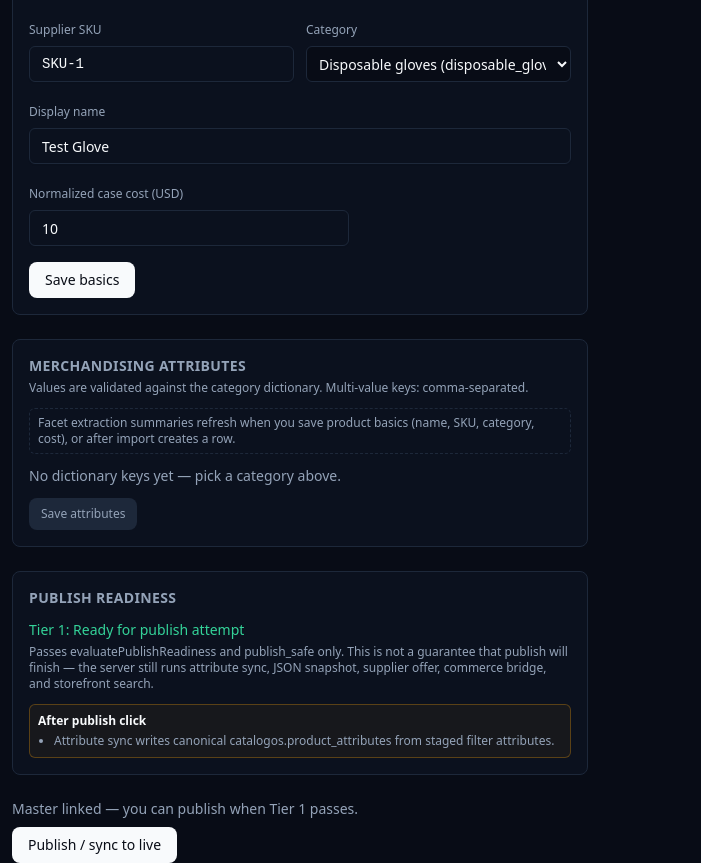
QuickAddPageClient › publish success shows Tier 2 copy and clears publish failure UI
(page scrolled)
Click the button "Publish / sync to live": {"x": 95, "y": 845} [12,827,177,862]
(page scrolled)
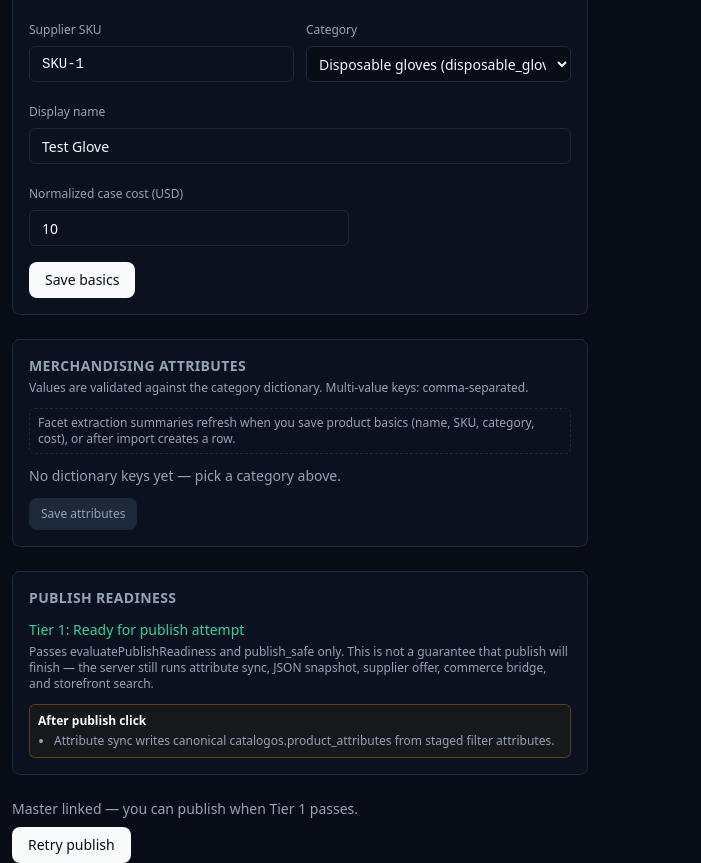
Click the button "Retry publish": {"x": 71, "y": 845} [12,827,131,862]
(page scrolled)
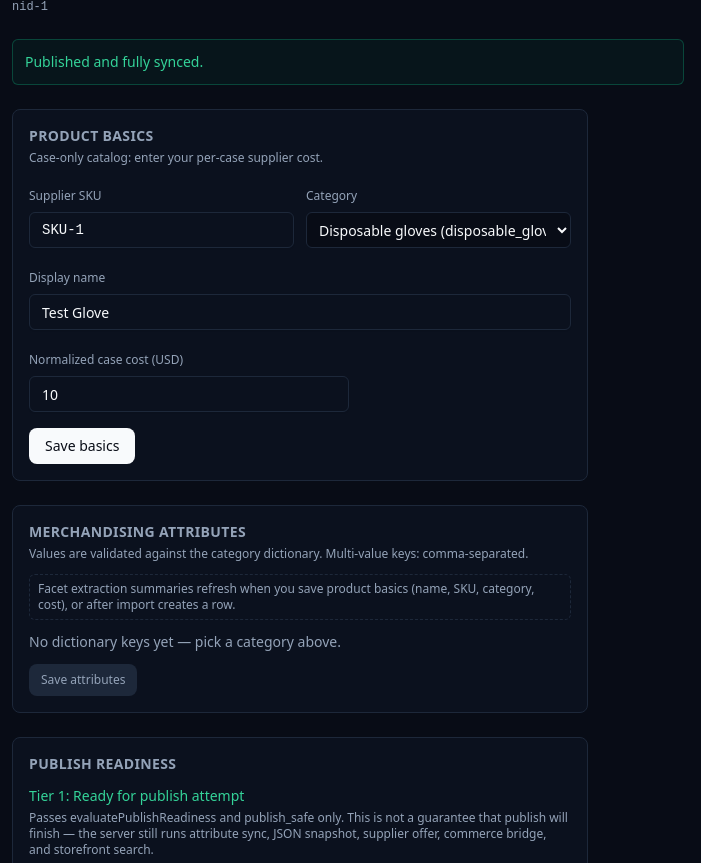
expect the text "Published and fully synced." is shown: met, box [25,52,203,71]
